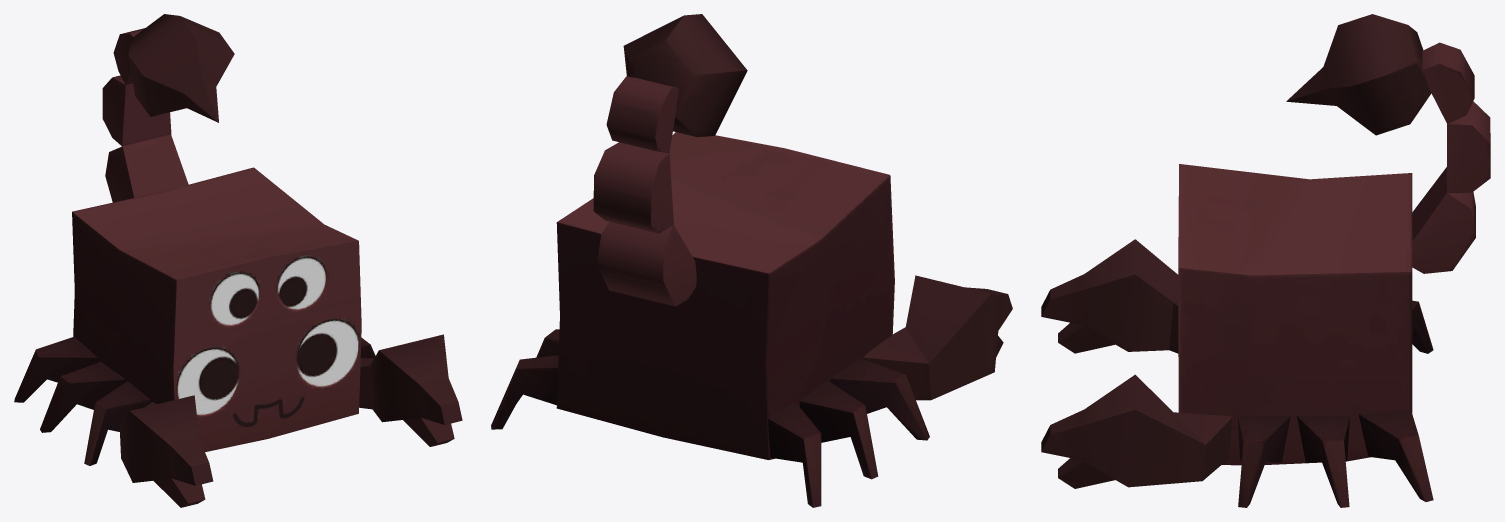
The model's file is scorpion.obj.
3 renders of one model, left to right at view 1: azimuth 30°, elevation 25°; view 2: azimuth 150°, elevation 25°; view 3: azimuth 270°, elevation 25°, orthographic. The views are drawn at different scales.
Parts seen in each view (by area): view 1: Pet1; view 2: Pet1; view 3: Pet1.
Boxes of the visible parts, <box> form: Pet1: <box>14,14,462,507</box>; Pet1: <box>491,14,1012,507</box>; Pet1: <box>1041,14,1490,507</box>.
Bounding box in the file's own units: 2.96 × 3.33 × 3.3.
1 material, 1 textured.
